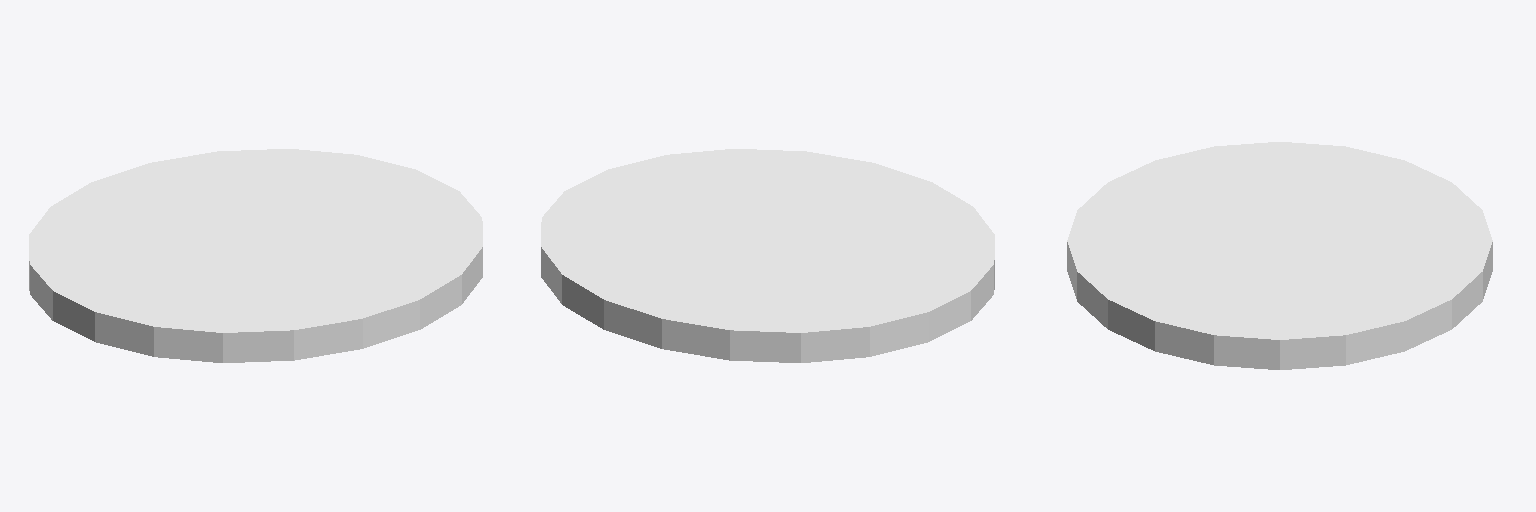
Rendered from PitOfDespair.obj.
3 renders of one model, left to right at view 1: azimuth 30°, elevation 25°; view 2: azimuth 150°, elevation 25°; view 3: azimuth 270°, elevation 25°, orthographic.
Visible parts, largest first — view 1: PitOfDespair; view 2: PitOfDespair; view 3: PitOfDespair.
Part boxes in pixels (x1,y1,x2,y2): PitOfDespair: (29, 149, 482, 362); PitOfDespair: (541, 149, 994, 362); PitOfDespair: (1067, 142, 1492, 369).
Size of the model in its own units: 9.87 by 0.7015 by 8.95.